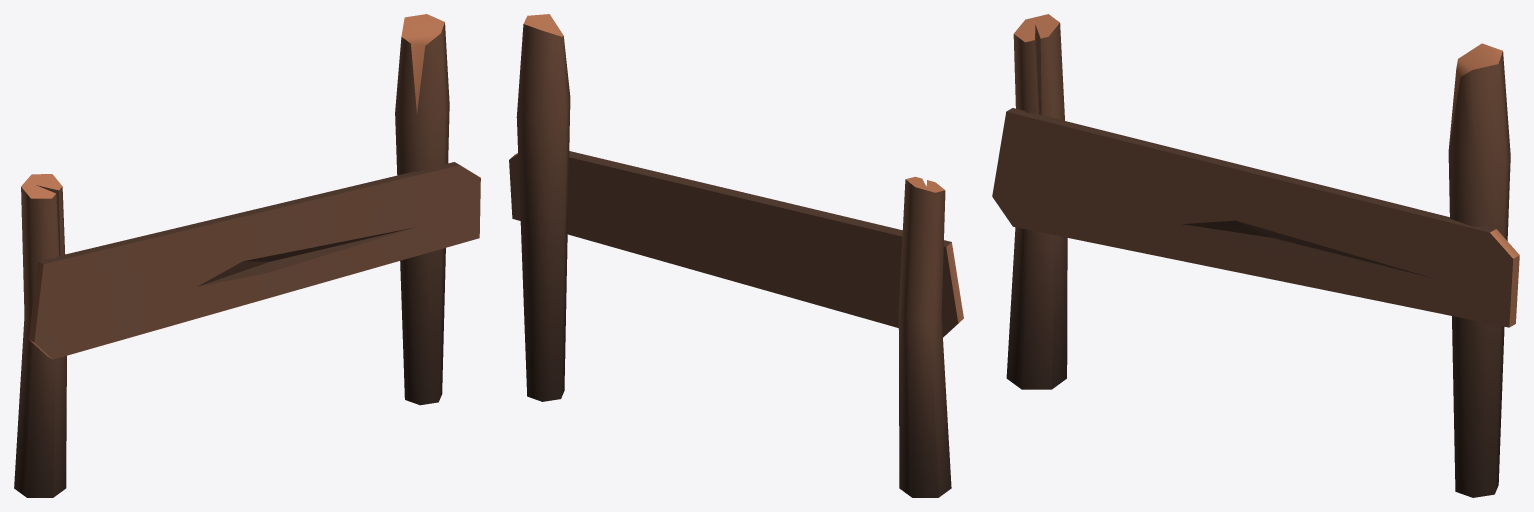
The model's file is Fence_1B.fbx.
The picture shows the model from 3 angles, left to right: view 1: azimuth 30°, elevation 25°; view 2: azimuth 150°, elevation 25°; view 3: azimuth 330°, elevation 25°; orthographic projection. The views are drawn at different scales.
Parts seen in each view (by area): view 1: Fence_1B; view 2: Fence_1B; view 3: Fence_1B.
Boxes of the visible parts, x1=… form: Fence_1B: x1=14, y1=14, x2=480, y2=497; Fence_1B: x1=509, y1=14, x2=963, y2=497; Fence_1B: x1=992, y1=14, x2=1519, y2=497.
Size of the model in its own units: 183 by 146 by 21.09.
